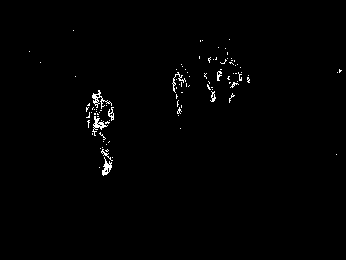person: (86, 89, 114, 175), (224, 56, 243, 103), (173, 69, 189, 116), (205, 56, 221, 103)
